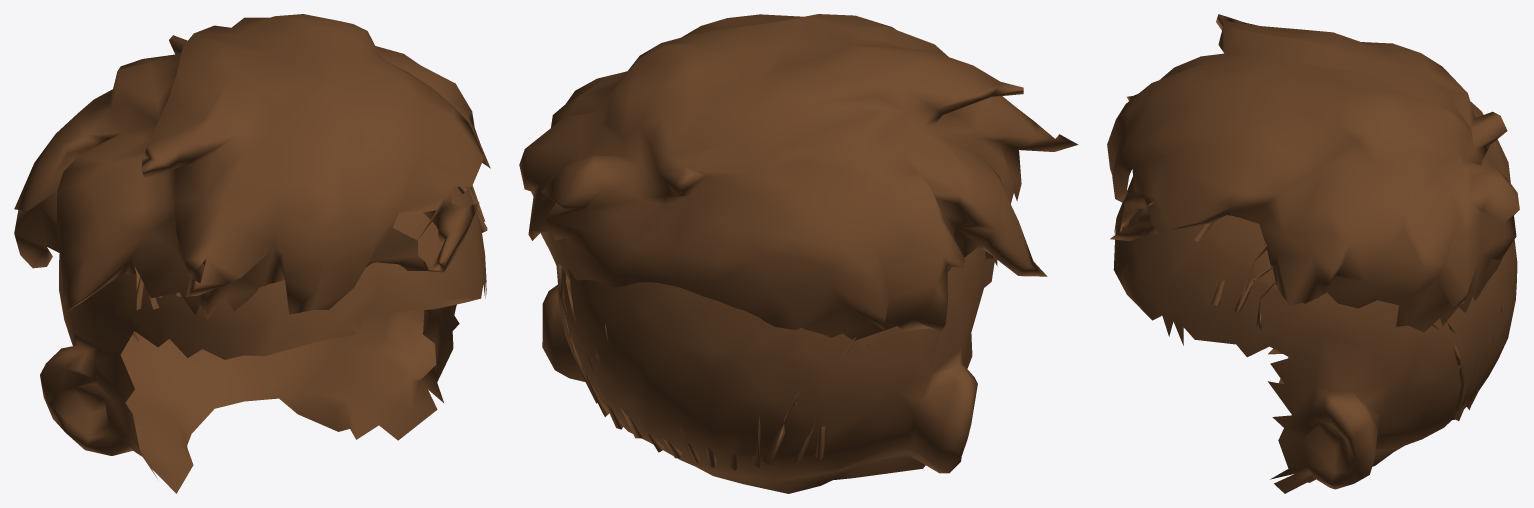
File: short-fringe.glb
3 views of the same model, side by side, from view 1: azimuth 30°, elevation 25°; view 2: azimuth 150°, elevation 25°; view 3: azimuth 270°, elevation 25° (orthographic). The views are drawn at different scales.
Parts seen in each view (by area): view 1: Hair, HairScalp, HairPulledRootStrands; view 2: Hair, HairScalp, HairPulledRootStrands; view 3: Hair, HairScalp, HairPulledRootStrands.
Boxes of the visible parts, bbox=[...] form: Hair: bbox=[14, 14, 490, 319]; HairScalp: bbox=[40, 186, 486, 493]; HairPulledRootStrands: bbox=[132, 185, 487, 341]; Hair: bbox=[519, 14, 1078, 340]; HairScalp: bbox=[542, 246, 997, 493]; HairPulledRootStrands: bbox=[556, 251, 993, 470]; Hair: bbox=[1107, 14, 1519, 332]; HairScalp: bbox=[1113, 176, 1517, 493]; HairPulledRootStrands: bbox=[1194, 216, 1502, 421].
Bounding box in the file's own units: 0.4959 × 0.4314 × 0.4238.
